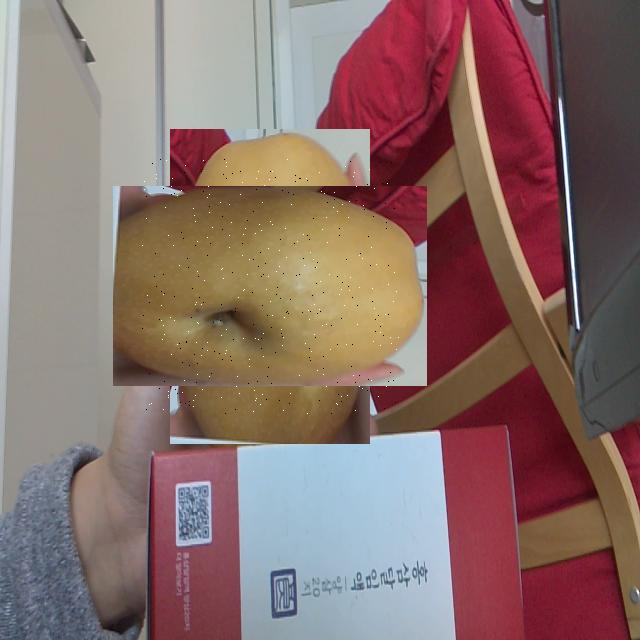pear: (141, 158, 399, 415)
